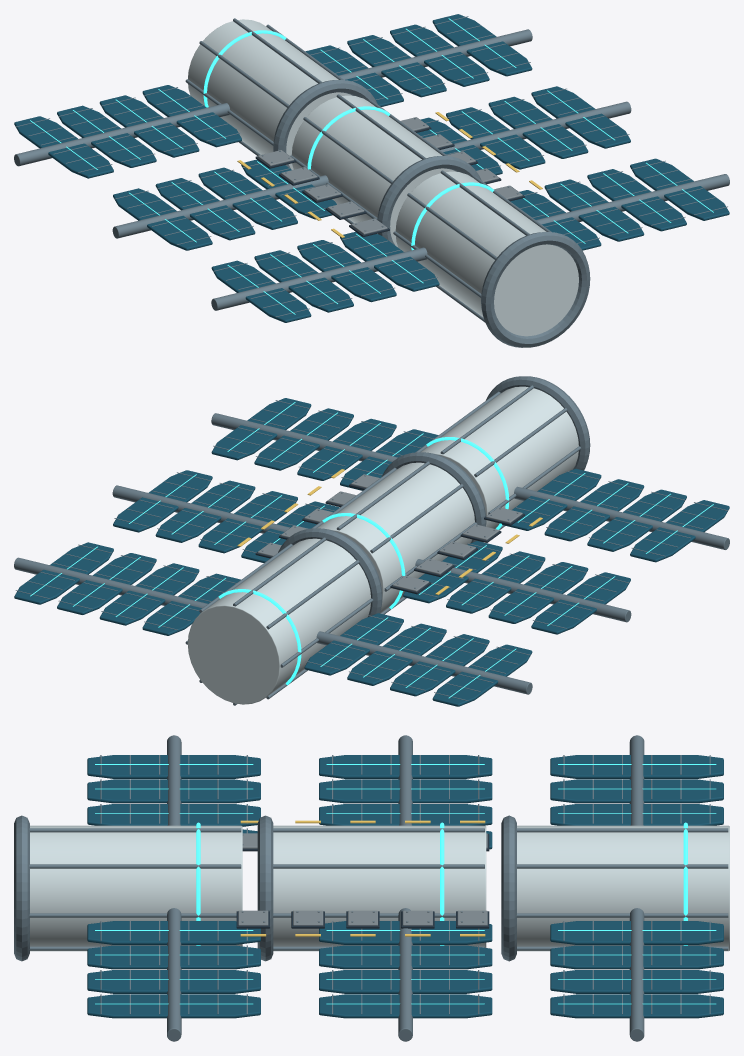
Rendered from OrbitHabitat.fbx.
3 views of the same model, one above another, from view 1: azimuth 30°, elevation 25°; view 2: azimuth 150°, elevation 25°; view 3: azimuth 270°, elevation 25° (orthographic). The views are drawn at different scales.
Visible parts, largest first — view 1: Pressure compartment.006, Pressure compartment.008, Pressure compartment.007, Docking frame.006, Photovoltaic tile.056, Photovoltaic tile.059, Photovoltaic tile.071, Photovoltaic tile.062, Photovoltaic tile.050, Photovoltaic tile.058, Photovoltaic tile.066, Photovoltaic tile.067 (+24 smaller); view 2: Pressure compartment.008, Pressure compartment.006, Pressure compartment.007, Photovoltaic tile.049, Photovoltaic tile.051, Photovoltaic tile.070, Photovoltaic tile.056, Photovoltaic tile.058, Photovoltaic tile.069, Photovoltaic tile.053, Photovoltaic tile.059, Photovoltaic tile.067 (+25 smaller); view 3: Pressure compartment.006, Pressure compartment.008, Pressure compartment.007, Photovoltaic tile.054, Photovoltaic tile.050, Photovoltaic tile.063, Photovoltaic tile.065, Photovoltaic tile.067, Photovoltaic tile.058, Photovoltaic tile.071, Photovoltaic tile.061, Photovoltaic tile.069 (+29 smaller).
Boxes of the visible parts, <box> form: Pressure compartment.006: <box>395,171,578,336</box>; Pressure compartment.008: <box>188,19,352,169</box>; Pressure compartment.007: <box>291,95,456,247</box>; Docking frame.006: <box>481,232,590,347</box>; Photovoltaic tile.056: <box>142,85,241,147</box>; Photovoltaic tile.059: <box>14,116,113,178</box>; Photovoltaic tile.071: <box>432,14,532,76</box>; Photovoltaic tile.062: <box>587,169,686,231</box>; Photovoltaic tile.050: <box>254,250,353,312</box>; Photovoltaic tile.058: <box>57,105,156,167</box>; Photovoltaic tile.066: <box>488,96,588,158</box>; Photovoltaic tile.067: <box>531,86,630,148</box>; Pressure compartment.008: <box>187,538,370,704</box>; Pressure compartment.006: <box>421,386,578,528</box>; Pressure compartment.007: <box>317,462,474,613</box>; Photovoltaic tile.049: <box>544,479,644,541</box>; Photovoltaic tile.051: <box>630,500,729,562</box>; Photovoltaic tile.070: <box>57,553,156,614</box>; Photovoltaic tile.056: <box>304,613,403,675</box>; Photovoltaic tile.058: <box>390,634,489,696</box>; Photovoltaic tile.069: <box>99,563,199,625</box>; Photovoltaic tile.053: <box>446,551,545,613</box>; Photovoltaic tile.059: <box>432,644,532,706</box>; Photovoltaic tile.067: <box>113,470,212,532</box>; Pressure compartment.006: <box>30,825,242,951</box>; Pressure compartment.008: <box>517,825,729,951</box>; Pressure compartment.007: <box>273,825,486,951</box>; Photovoltaic tile.054: <box>319,779,492,803</box>; Photovoltaic tile.050: <box>87,779,260,803</box>; Photovoltaic tile.063: <box>87,994,260,1018</box>; Photovoltaic tile.065: <box>319,945,492,969</box>; Photovoltaic tile.067: <box>319,994,492,1018</box>; Photovoltaic tile.058: <box>550,779,723,803</box>; Photovoltaic tile.071: <box>550,994,723,1018</box>; Photovoltaic tile.061: <box>87,945,260,969</box>; Photovoltaic tile.069: <box>550,945,723,969</box>.
Bounding box in the file's own units: 1140 × 240 × 1176.
